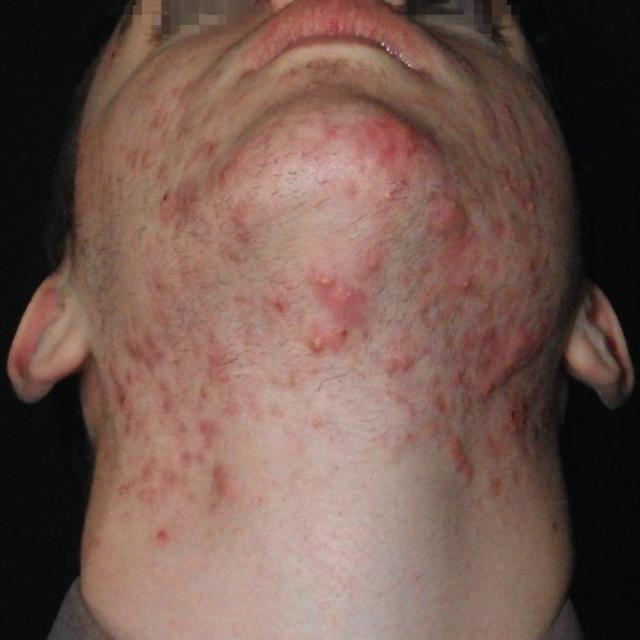6: (479, 320, 564, 401)
pustules: (429, 192, 477, 254)
whiteheads: (483, 99, 552, 173), (370, 345, 437, 389), (288, 323, 343, 372), (503, 187, 563, 228), (306, 258, 342, 312), (441, 268, 494, 300), (469, 297, 514, 327), (108, 478, 140, 510)
